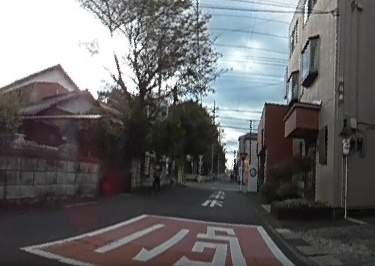person: (151, 161, 162, 192)
